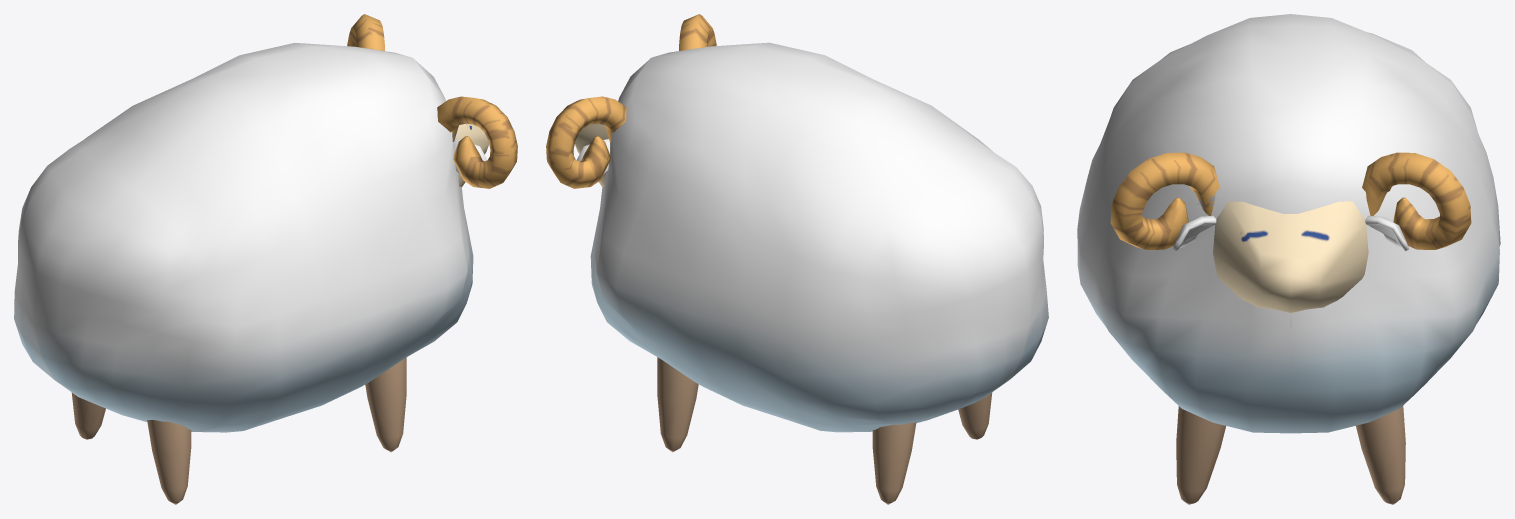
File: hitsuji.fbx
The picture shows the model from 3 angles, left to right: view 1: azimuth 30°, elevation 25°; view 2: azimuth 150°, elevation 25°; view 3: azimuth 270°, elevation 25°; orthographic projection. The views are drawn at different scales.
Visible parts, largest first — view 1: polySurface2, pCylinder3, polySurface5, polySurface1; view 2: polySurface2, pCylinder3, polySurface5, polySurface1; view 3: polySurface2, polySurface1, polySurface5, pCylinder3, polySurface4.
Part boxes in pixels (box(x1,y1,x2,y2)): polySurface2: box(14, 43, 473, 432); pCylinder3: box(71, 357, 406, 504); polySurface5: box(347, 14, 517, 188); polySurface1: box(455, 123, 488, 186); polySurface2: box(590, 42, 1048, 432); pCylinder3: box(657, 357, 992, 504); polySurface5: box(546, 14, 716, 188); polySurface1: box(575, 123, 608, 186); polySurface2: box(1077, 14, 1500, 433); polySurface1: box(1213, 201, 1368, 312); polySurface5: box(1110, 152, 1471, 249); pCylinder3: box(1176, 406, 1405, 504); polySurface4: box(1173, 215, 1409, 251).
Bounding box in the file's own units: 109 × 84.21 × 76.84.
